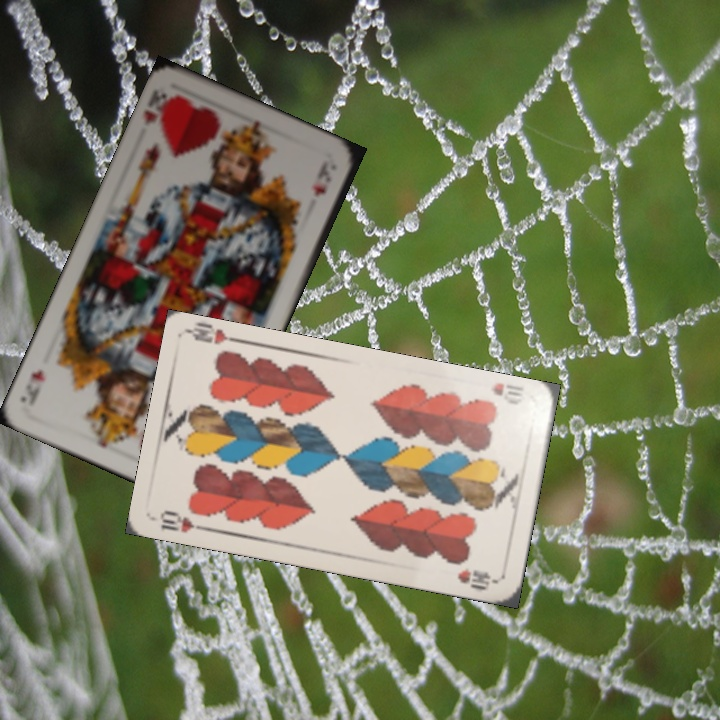H10: (156, 506, 211, 535), (487, 379, 528, 407)
HK: (140, 85, 178, 134)
